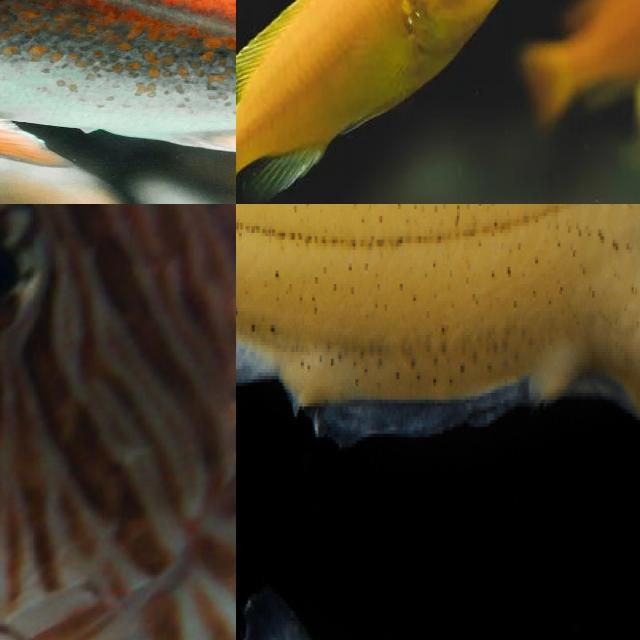fish: (236, 204, 640, 529), (0, 204, 236, 640), (236, 0, 640, 204), (0, 0, 236, 204)
